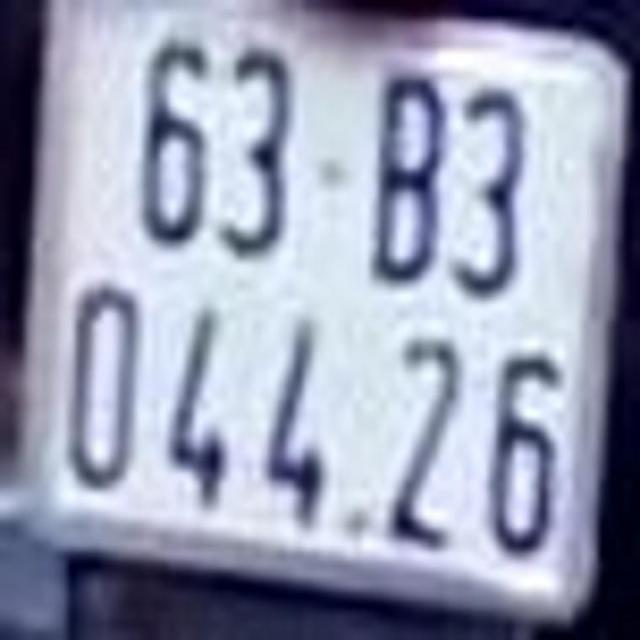0: (66, 279, 136, 486)
2: (400, 331, 458, 552)
3: (458, 80, 522, 301), (228, 44, 288, 258)
4: (265, 316, 330, 534), (167, 301, 229, 506)
6: (140, 35, 210, 248), (501, 337, 559, 560)
B: (380, 76, 437, 276)
